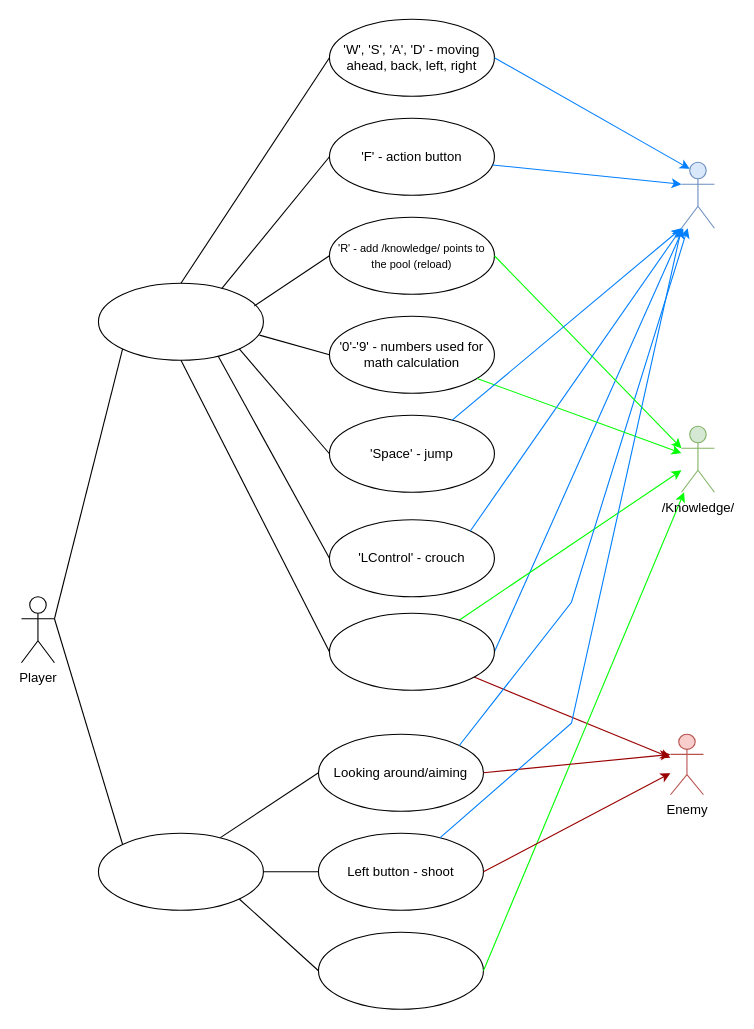
Some shapes in this 754 by 1029 pixel diagram are drawn without their labels. The centre of each missing label's shape, as x and y in pixels:
'Tab' - active pause: pixel 411 651
Environment: pixel 697 194
Keyboard: pixel 180 321
Mouse: pixel 180 871
Right button - knowledge choose panel: pixel 400 970
